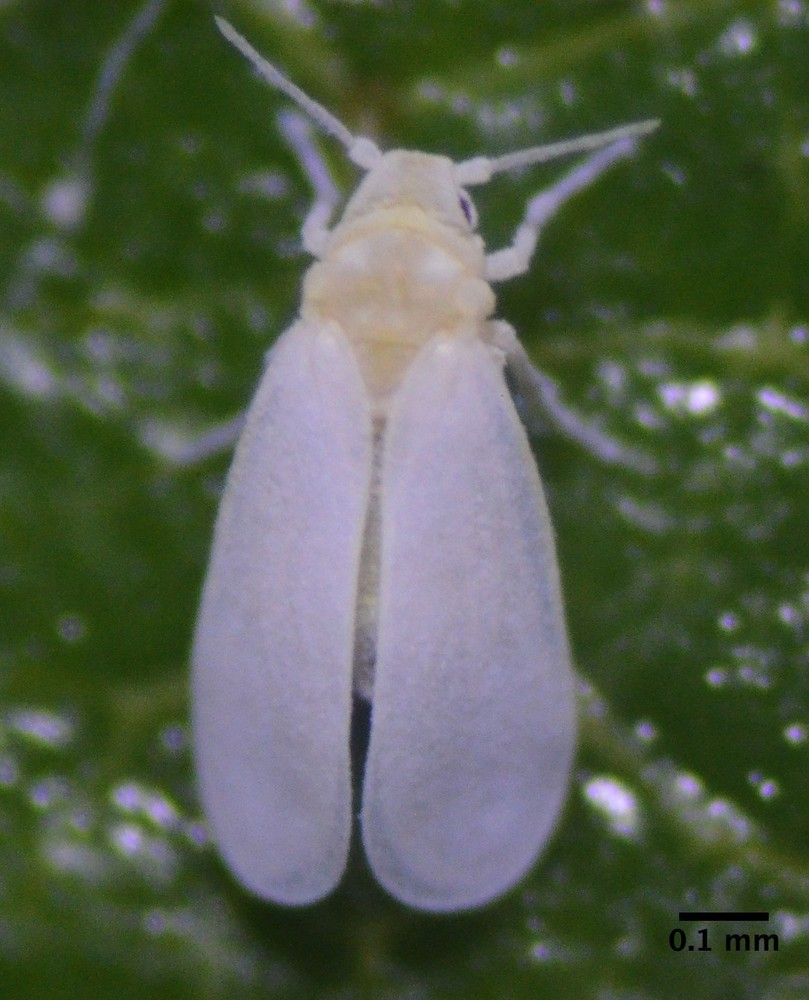Mosca Blanca: (157, 4, 665, 942)
